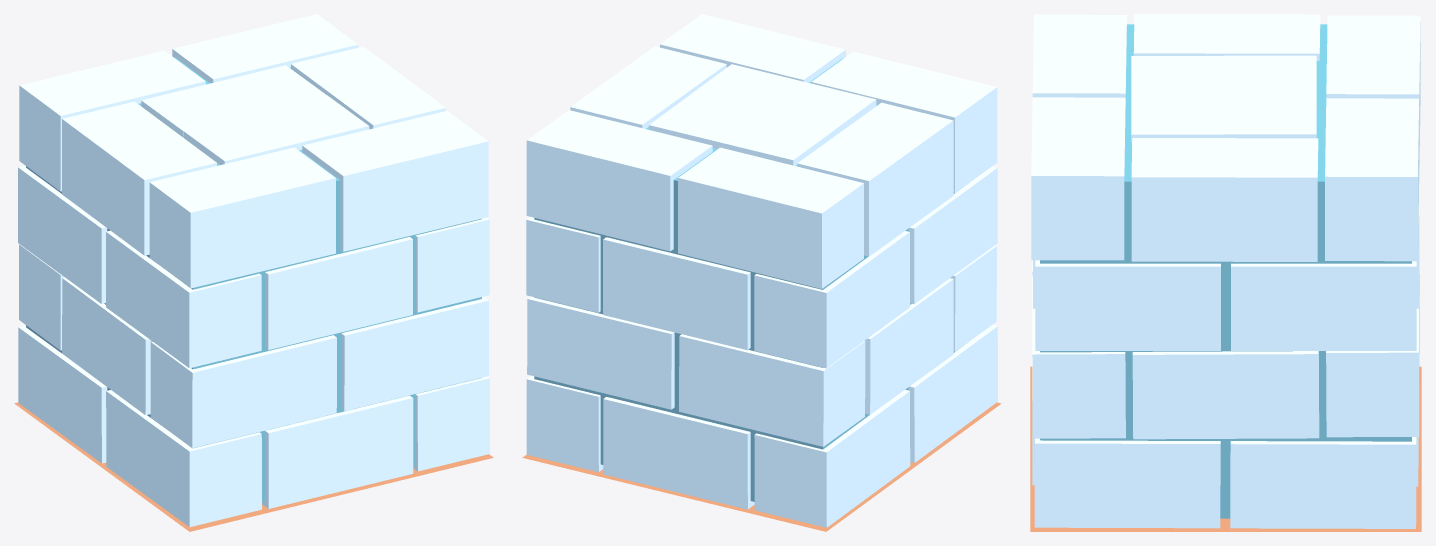
The model's file is walls_on_ground.gltf.
The picture shows the model from 3 angles, left to right: view 1: azimuth 30°, elevation 25°; view 2: azimuth 150°, elevation 25°; view 3: azimuth 270°, elevation 25°; orthographic projection. The views are drawn at different scales.
Parts seen in each view (by area): view 1: Box (×21), Plane; view 2: Box (×21), Plane; view 3: Box (×16), Plane.
Boxes of the visible parts, x1=… form: Box (×21): x1=18, y1=14, x2=489, y2=526; Plane: x1=14, y1=402, x2=493, y2=531; Box (×21): x1=526, y1=14, x2=997, y2=527; Plane: x1=522, y1=402, x2=1001, y2=531; Box (×16): x1=1031, y1=14, x2=1420, y2=528; Plane: x1=1030, y1=366, x2=1421, y2=531.
Size of the model in its own units: 1 by 1.03 by 1.
